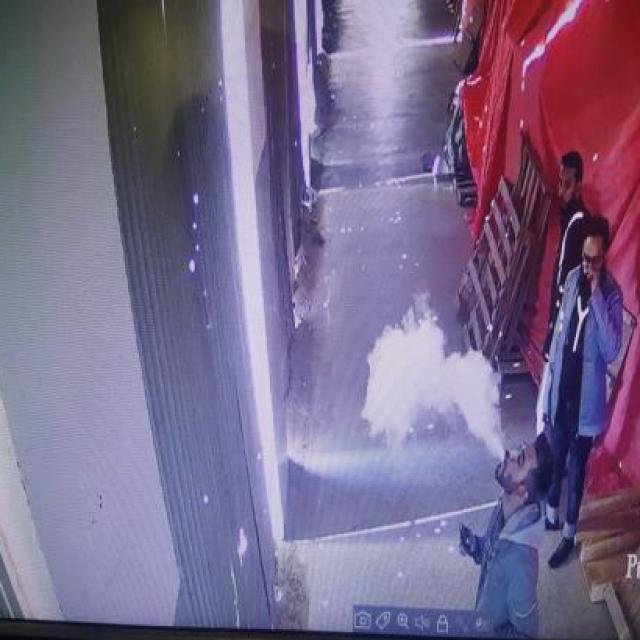fire: (362, 286, 503, 464)
